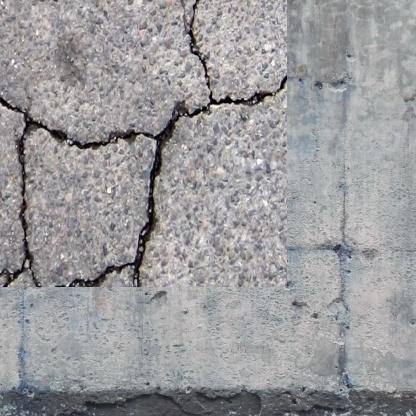Cracks: (0, 0, 265, 265)
